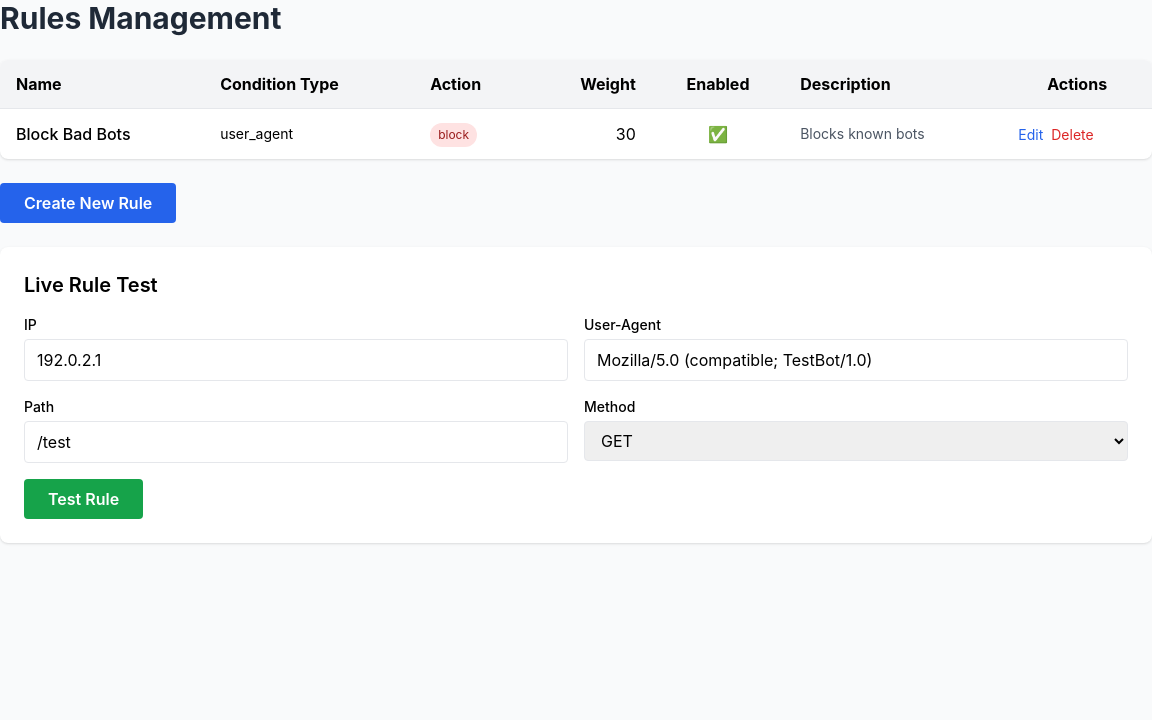
Scenario: RulesManagement Component › opens edit form when clicking edit button
Click the button "Edit" at (1031,135), box top-left (1018, 125), bottom-right (1043, 145)
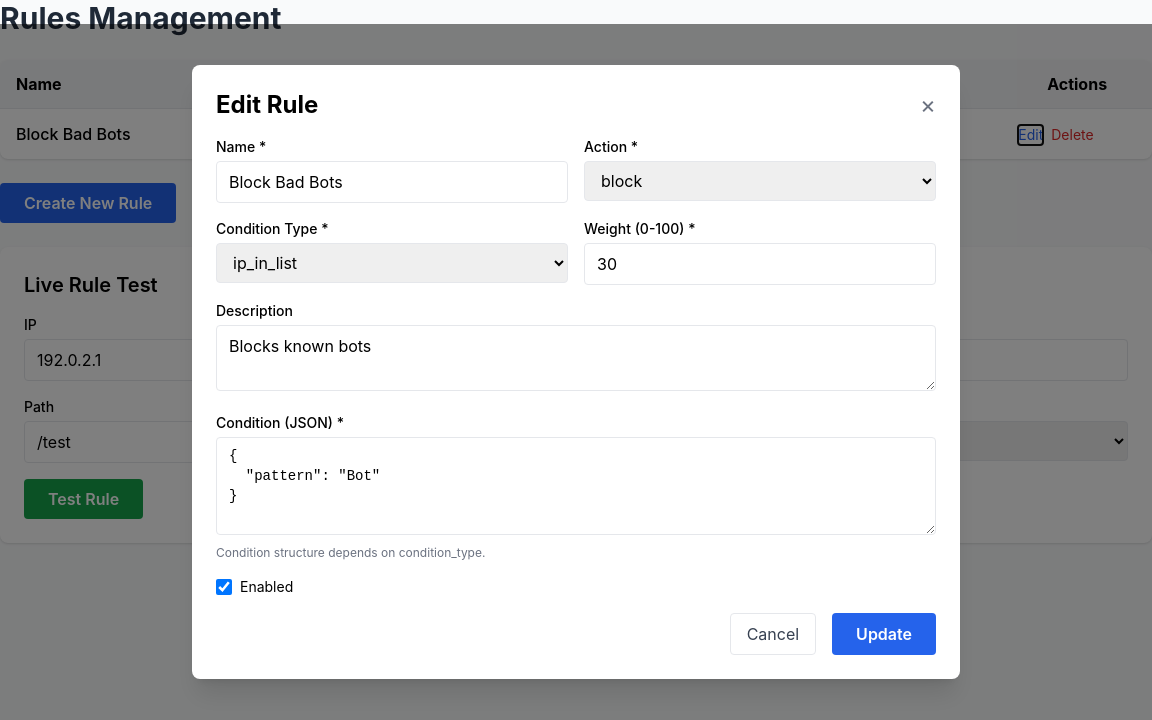
Expected: the heading "Edit Rule" is shown, top-left (216, 89), bottom-right (318, 121)
